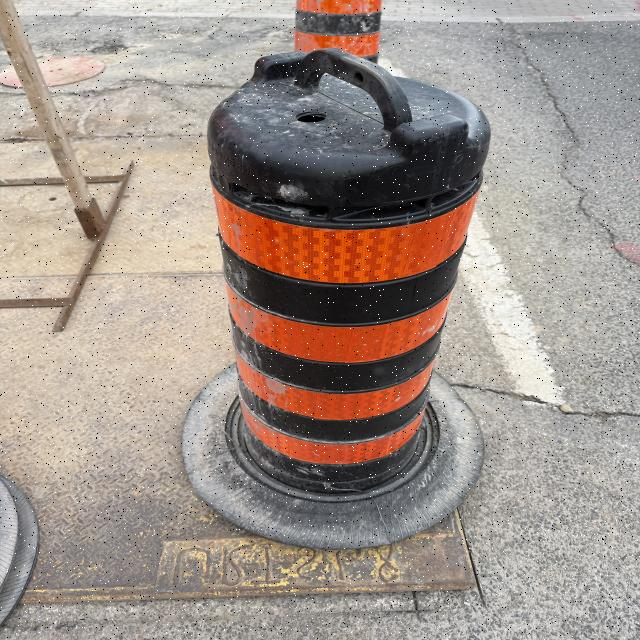Teraffic Barrel: (186, 49, 490, 547), (294, 0, 382, 62)
